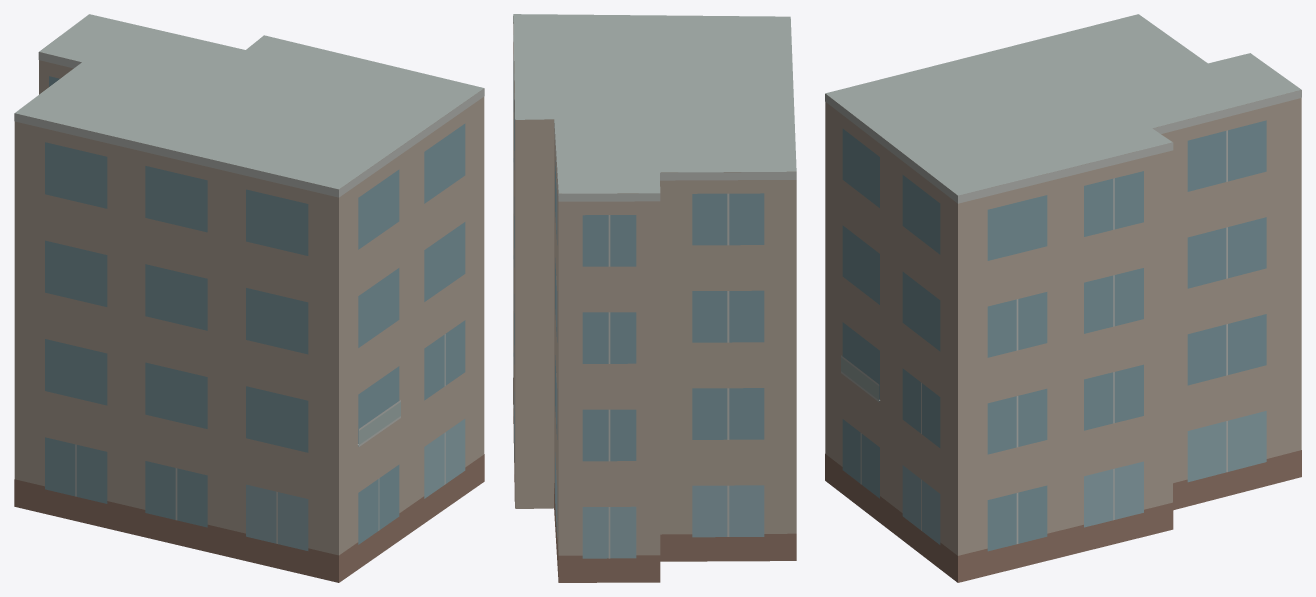
The model's file is survey-upis-32627043.glb.
3 views of the same model, side by side, from view 1: azimuth 30°, elevation 25°; view 2: azimuth 150°, elevation 25°; view 3: azimuth 270°, elevation 25° (orthographic).
Parts seen in each view (by area): view 1: survey-upis-32627043.tmp; view 2: survey-upis-32627043.tmp; view 3: survey-upis-32627043.tmp.
Part boxes in pixels (x1,y1,x2,y2): survey-upis-32627043.tmp: [14, 14, 484, 582]; survey-upis-32627043.tmp: [513, 14, 796, 582]; survey-upis-32627043.tmp: [825, 14, 1301, 582].
Size of the model in its own units: 11.78 by 11.7 by 13.06.
